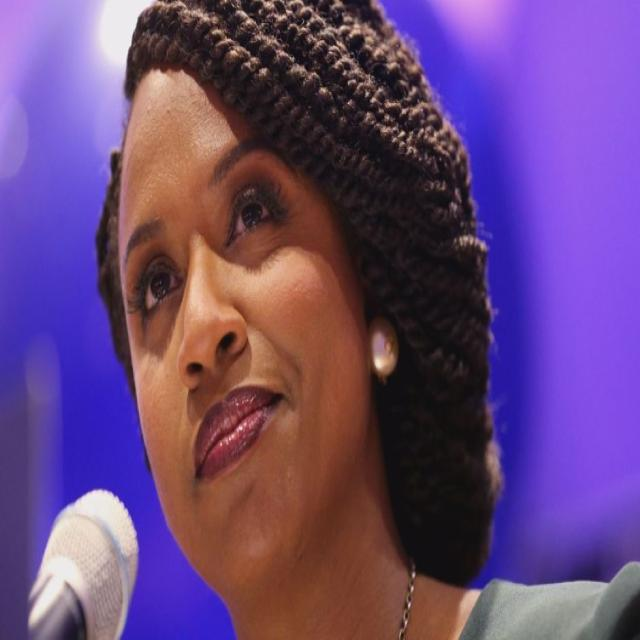human: (81, 5, 541, 640)
